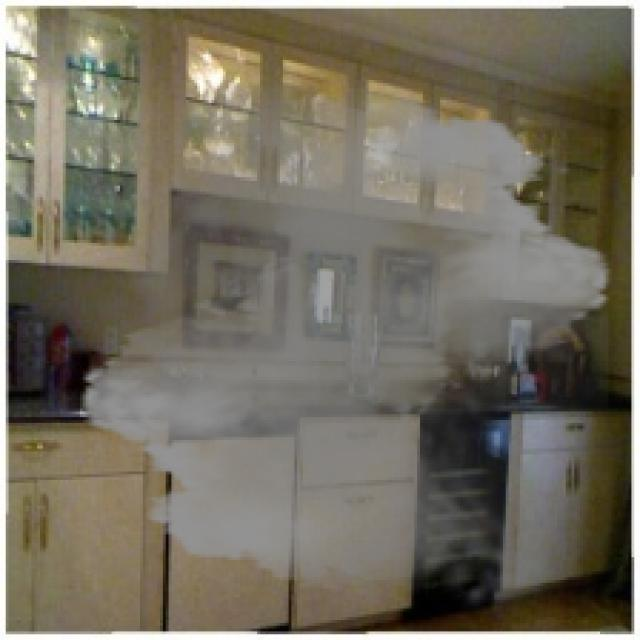smoke: (63, 65, 628, 626)
